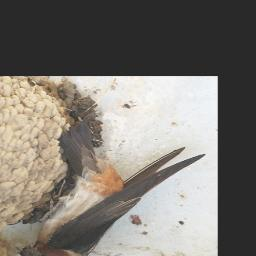Swallow: (19, 145, 207, 256)
